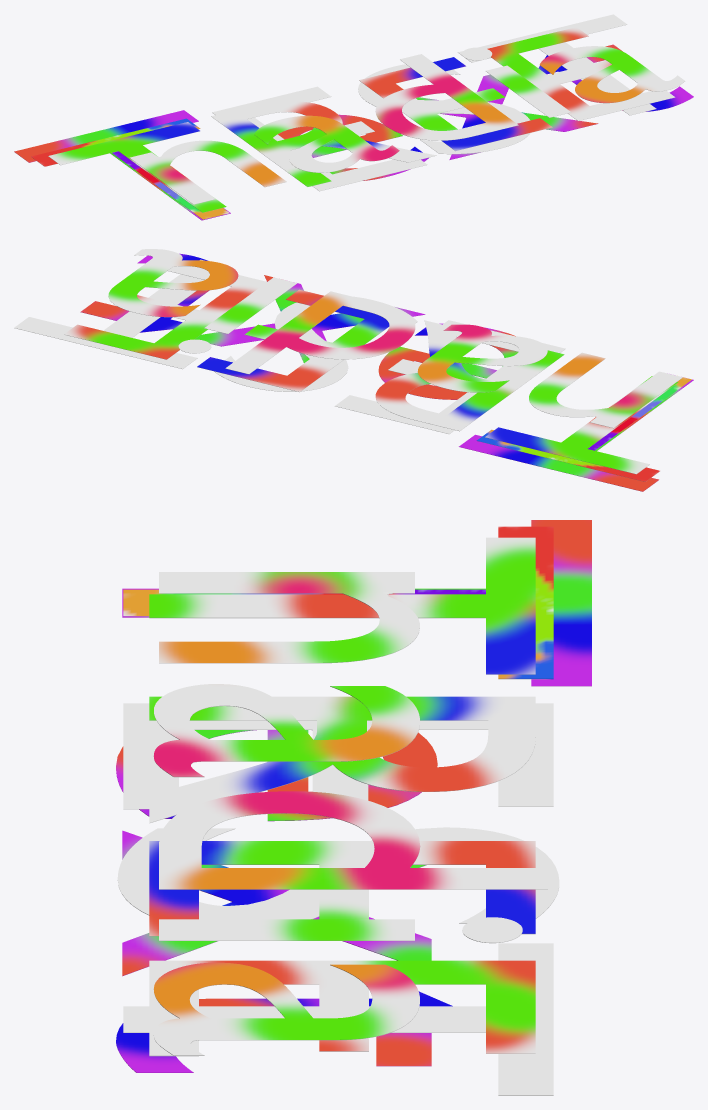
The model's file is nadia.glb.
3 renders of one model, top to bottom at view 1: azimuth 30°, elevation 25°; view 2: azimuth 150°, elevation 25°; view 3: azimuth 270°, elevation 25°, orthographic. The views are drawn at different scales.
Parts seen in each view (by area): view 1: テキスト.005, テキスト.004, テキスト.002, テキスト.003; view 2: テキスト.005, テキスト.004, テキスト.002, テキスト.003; view 3: テキスト.005, テキスト.004, テキスト.002, テキスト.003.
Boxes of the visible parts, left/top/right/bottom form: テキスト.005: left=130, top=46, right=684, bottom=204; テキスト.004: left=48, top=27, right=675, bottom=212; テキスト.002: left=31, top=14, right=656, bottom=219; テキスト.003: left=14, top=44, right=693, bottom=220; テキスト.005: left=108, top=249, right=682, bottom=428; テキスト.004: left=64, top=266, right=678, bottom=474; テキスト.002: left=14, top=259, right=691, bottom=481; テキスト.003: left=80, top=253, right=693, bottom=491; テキスト.005: left=153, top=572, right=547, bottom=1055; テキスト.004: left=149, top=537, right=535, bottom=1056; テキスト.002: left=117, top=526, right=559, bottom=1095; テキスト.003: left=116, top=520, right=591, bottom=1072.
Size of the model in its own units: 25.09 by 0.3718 by 8.76.
